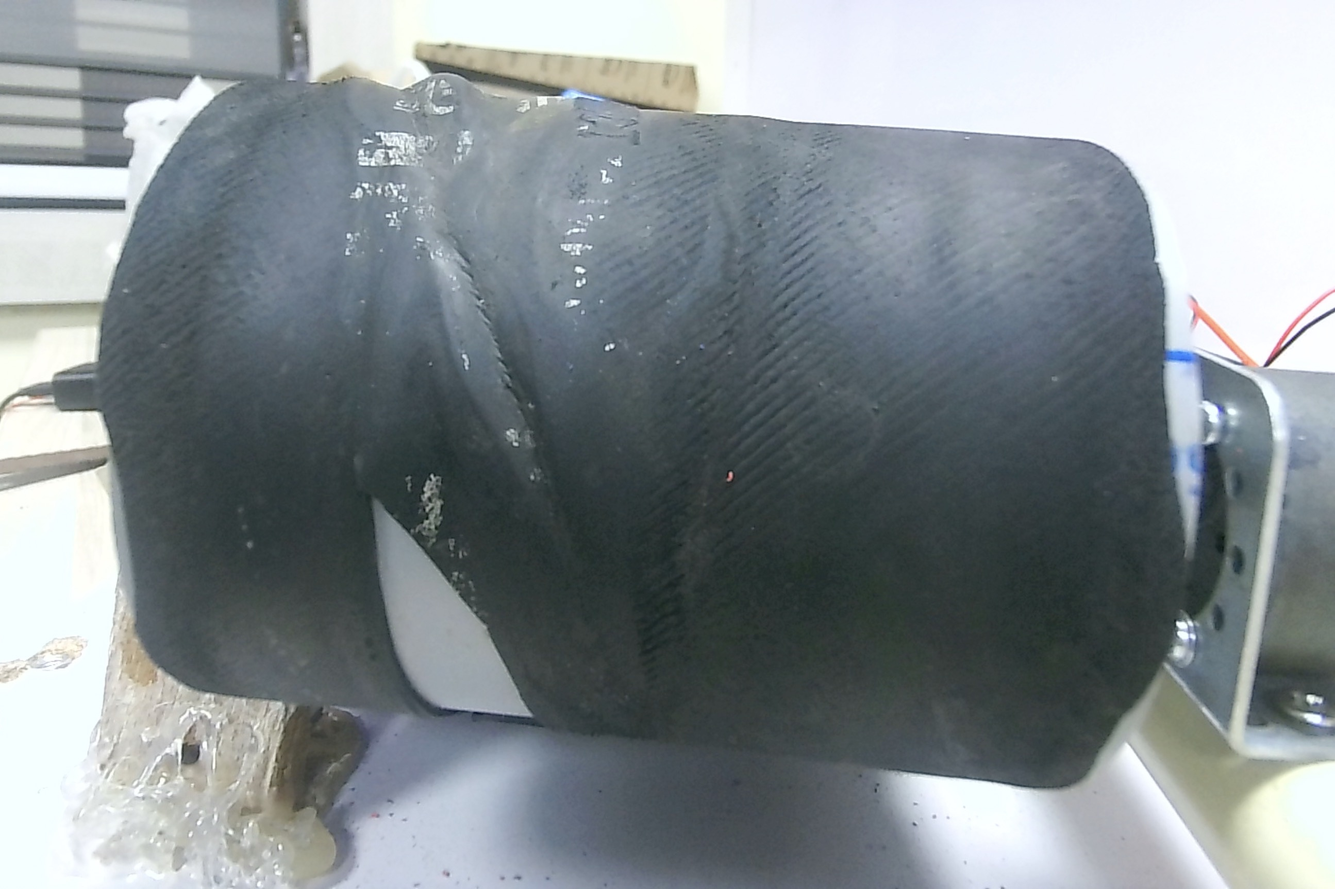hole: (363, 480, 552, 717)
